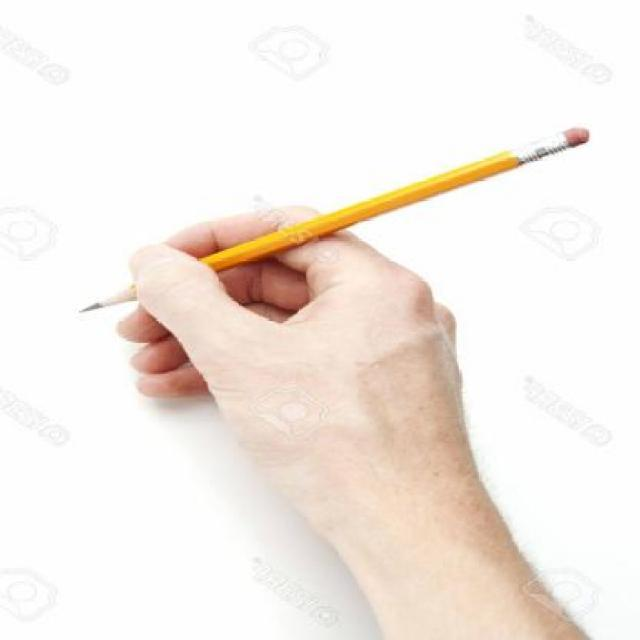Pencil: (76, 280, 144, 322)
